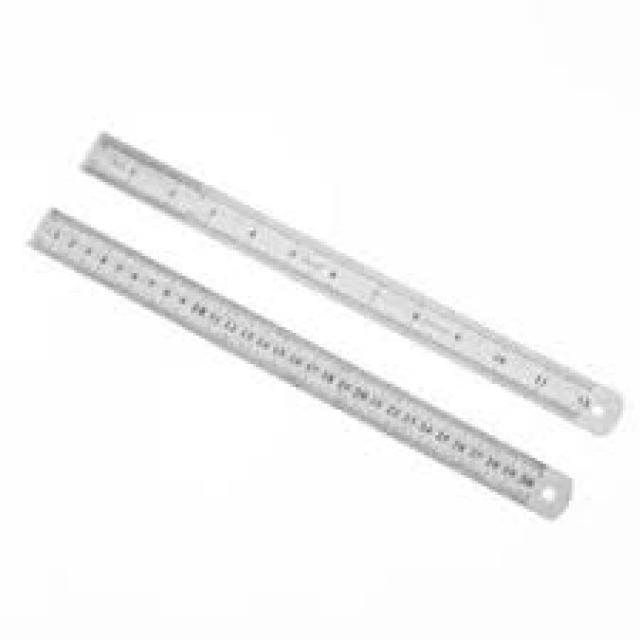Ruler: (40, 210, 569, 515), (85, 134, 617, 432)
